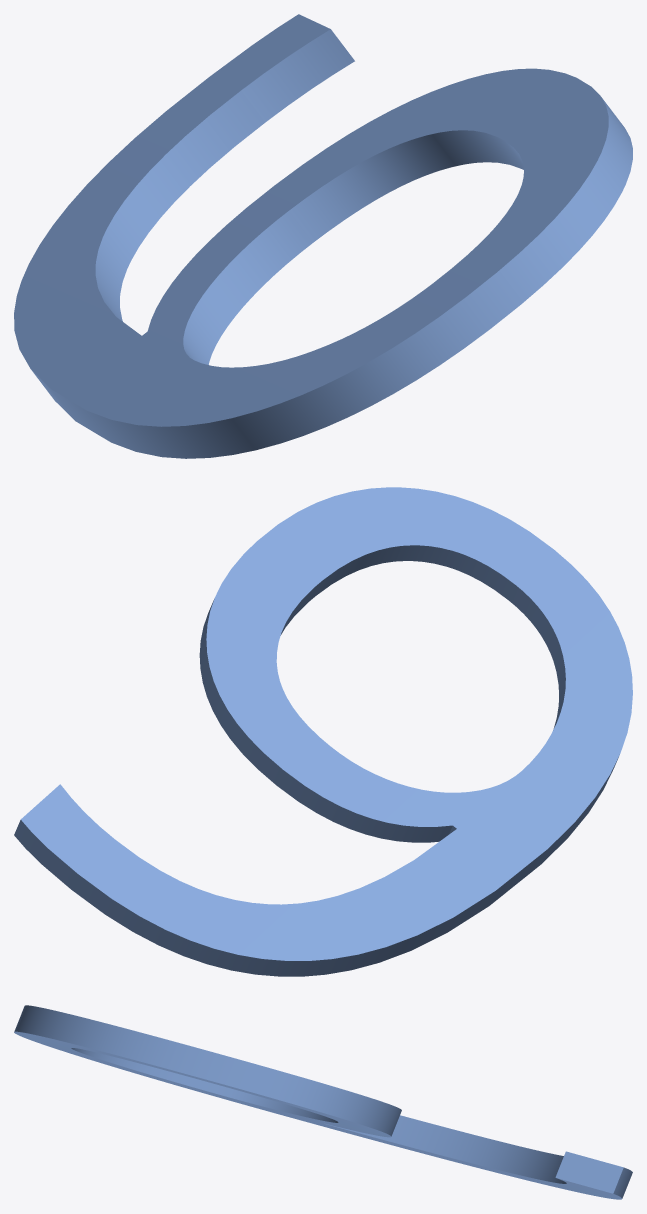
Rendered from New_Number_6.gltf.
The picture shows the model from 3 angles, top to bottom: view 1: azimuth 30°, elevation 25°; view 2: azimuth 150°, elevation 25°; view 3: azimuth 270°, elevation 25°; orthographic projection. The views are drawn at different scales.
Parts seen in each view (by area): view 1: Part 645; view 2: Part 645; view 3: Part 645.
Part boxes in pixels (left/top/right/bottom): Part 645: left=14, top=14, right=632, bottom=458; Part 645: left=14, top=487, right=632, bottom=976; Part 645: left=14, top=1005, right=632, bottom=1199.
Size of the model in its own units: 0.0034 by 0.00242 by 0.00555.
